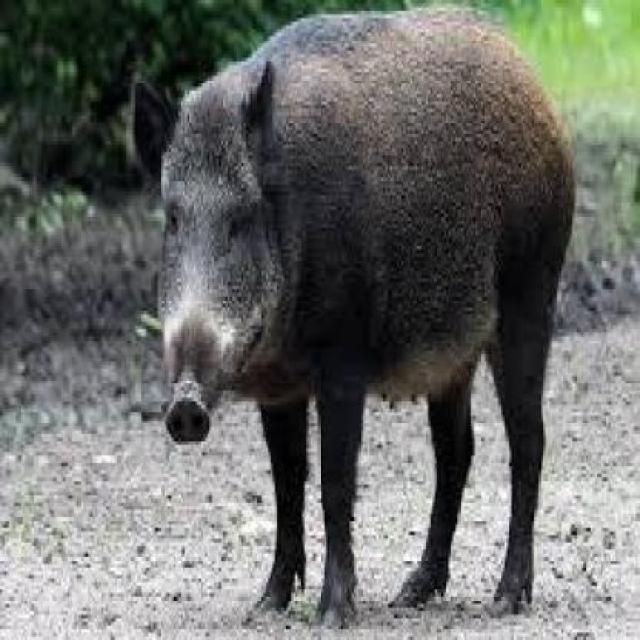wildboar: (131, 4, 577, 640)
